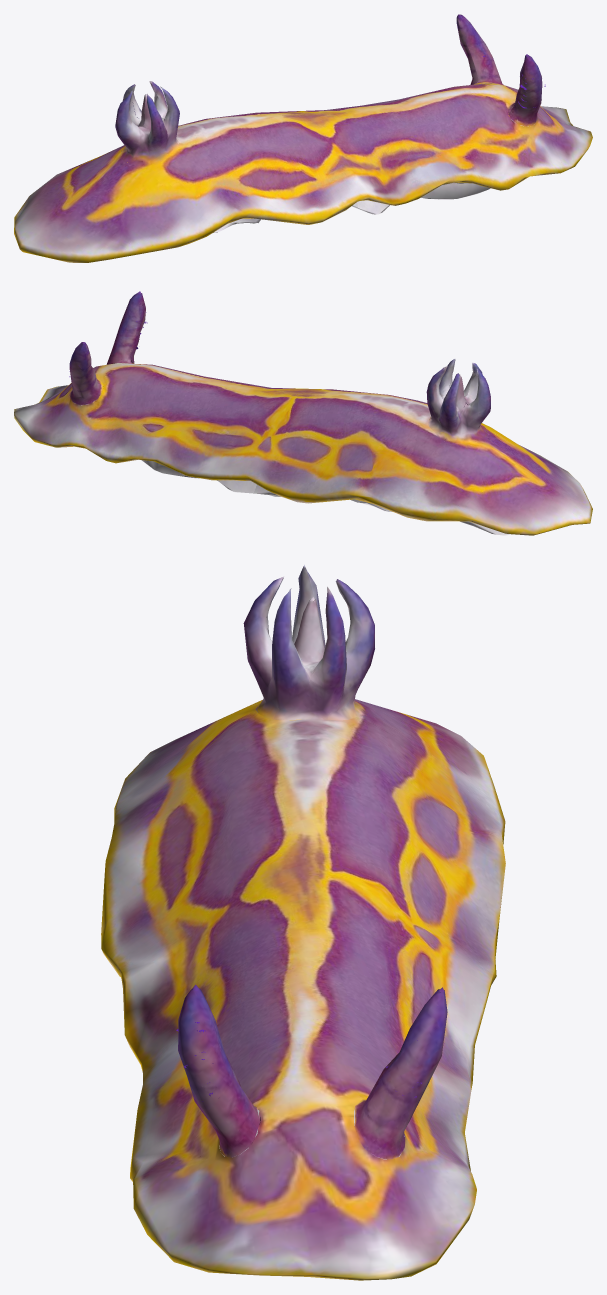
Rendered from nudibranch.glb.
3 views of the same model, one above another, from view 1: azimuth 30°, elevation 25°; view 2: azimuth 150°, elevation 25°; view 3: azimuth 270°, elevation 25° (orthographic). The views are drawn at different scales.
Visible parts, largest first — view 1: Felimida Britoi_Branquias_0; view 2: Felimida Britoi_Branquias_0; view 3: Felimida Britoi_Branquias_0.
Boxes of the visible parts, left/top/right/bottom form: Felimida Britoi_Branquias_0: left=14, top=14, right=592, bottom=262; Felimida Britoi_Branquias_0: left=14, top=291, right=592, bottom=535; Felimida Britoi_Branquias_0: left=101, top=565, right=505, bottom=1280.
Bounding box in the file's own units: 1 × 0.2719 × 0.3136.
2 materials, 1 textured.
